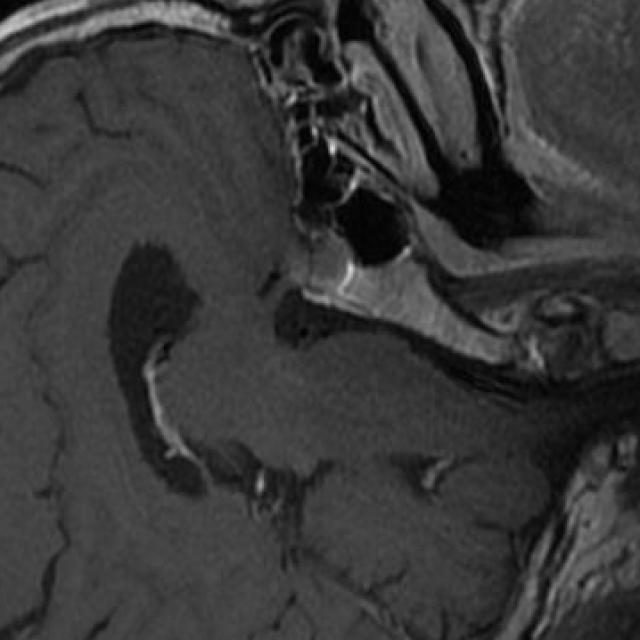pituitary: (308, 235, 353, 291)
